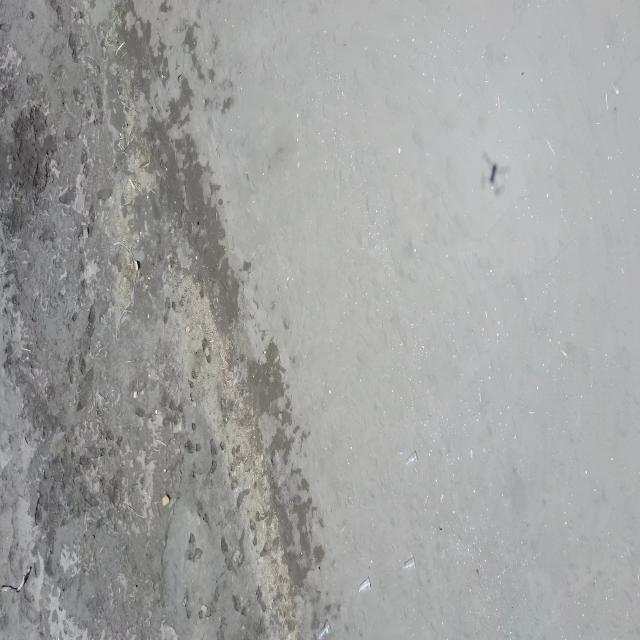takeaway-cup: (358, 576, 371, 594), (318, 622, 331, 640), (405, 451, 419, 467), (403, 556, 416, 572)
